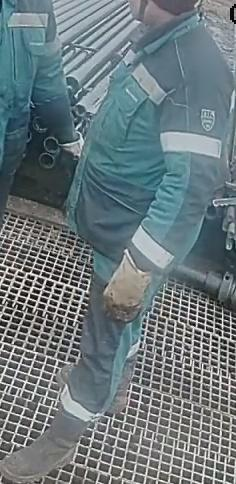gloves: (101, 248, 152, 323), (54, 127, 84, 179)
vest: (62, 13, 235, 284), (0, 1, 54, 188)
